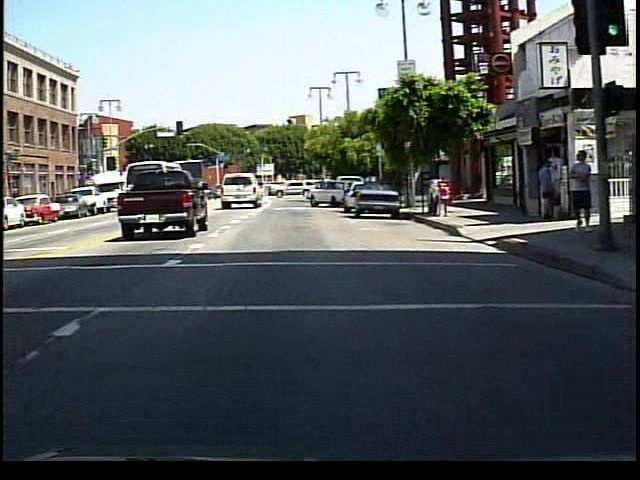person: (564, 149, 594, 236), (536, 157, 554, 224)
